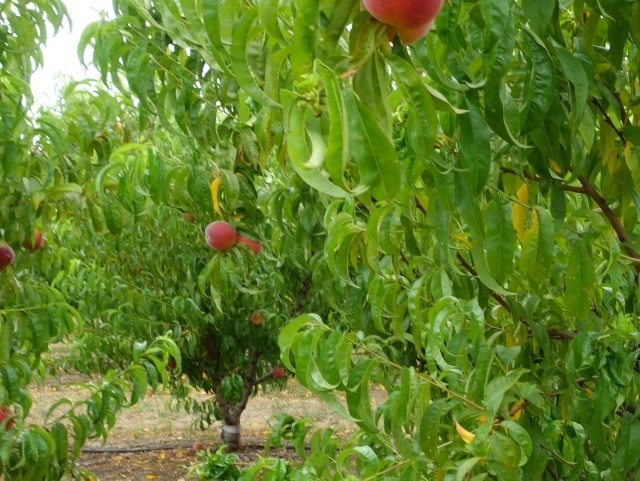peach: (370, 11, 441, 57), (358, 1, 438, 34), (200, 219, 241, 253), (228, 224, 265, 260), (18, 227, 48, 254), (1, 239, 17, 274), (1, 402, 19, 432)
